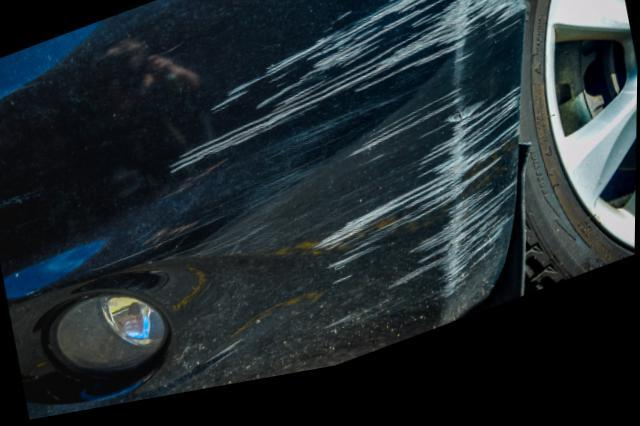scratch: (170, 0, 532, 345)
